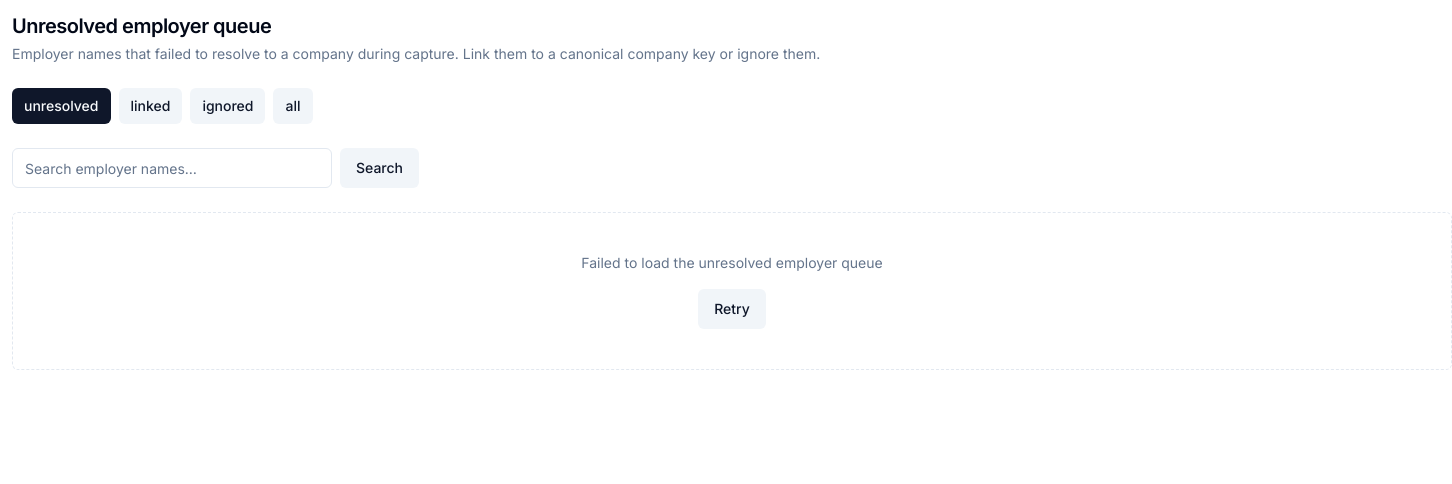
Test: SystemSettingsUnresolvedQueuePage › shows an error panel on load failure and recovers via retry
Expected: the element with test id "unresolved-queue-error" is shown, [12,212,1451,370]
Click the button with test id "unresolved-queue-retry".
click(732, 309)  # box [698,289,766,329]
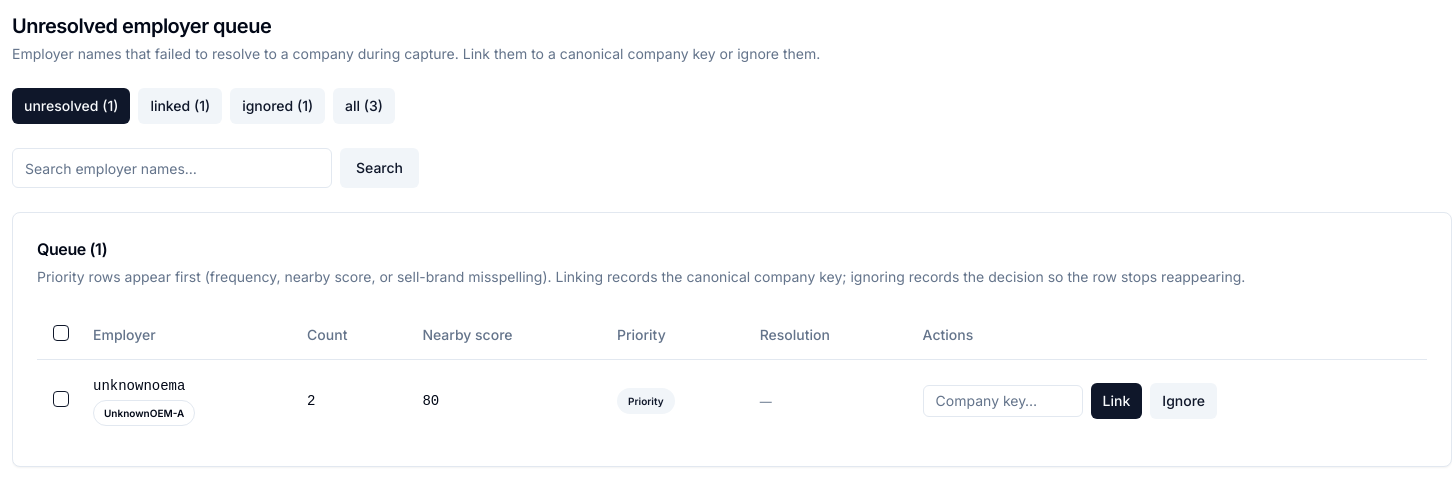
Expected: the row with test id "unresolved-queue-row-unknownoema" is shown, [37,359,1427,442]
